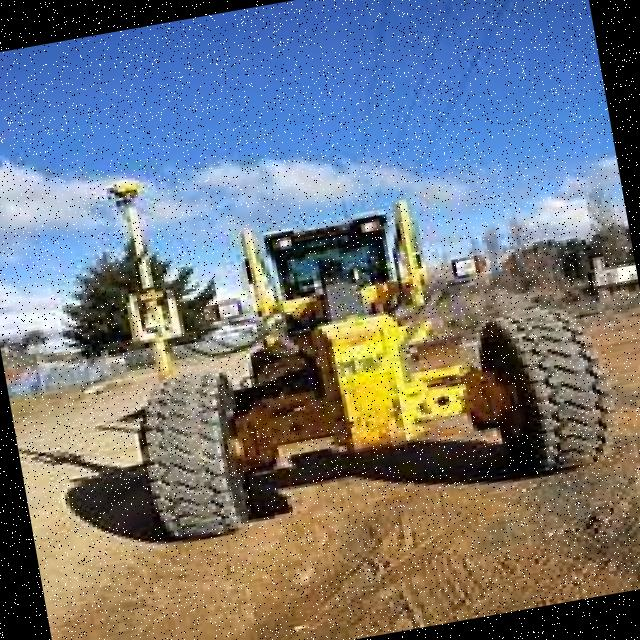Grader: (73, 150, 636, 574)
